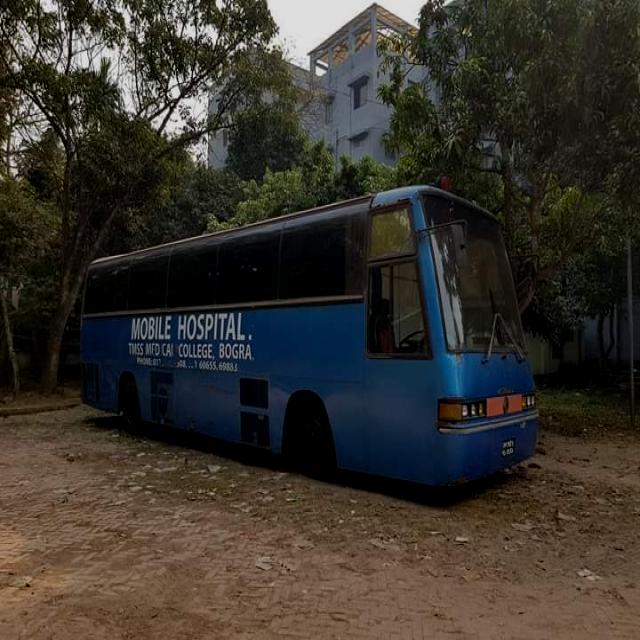bus: (79, 187, 542, 490)
